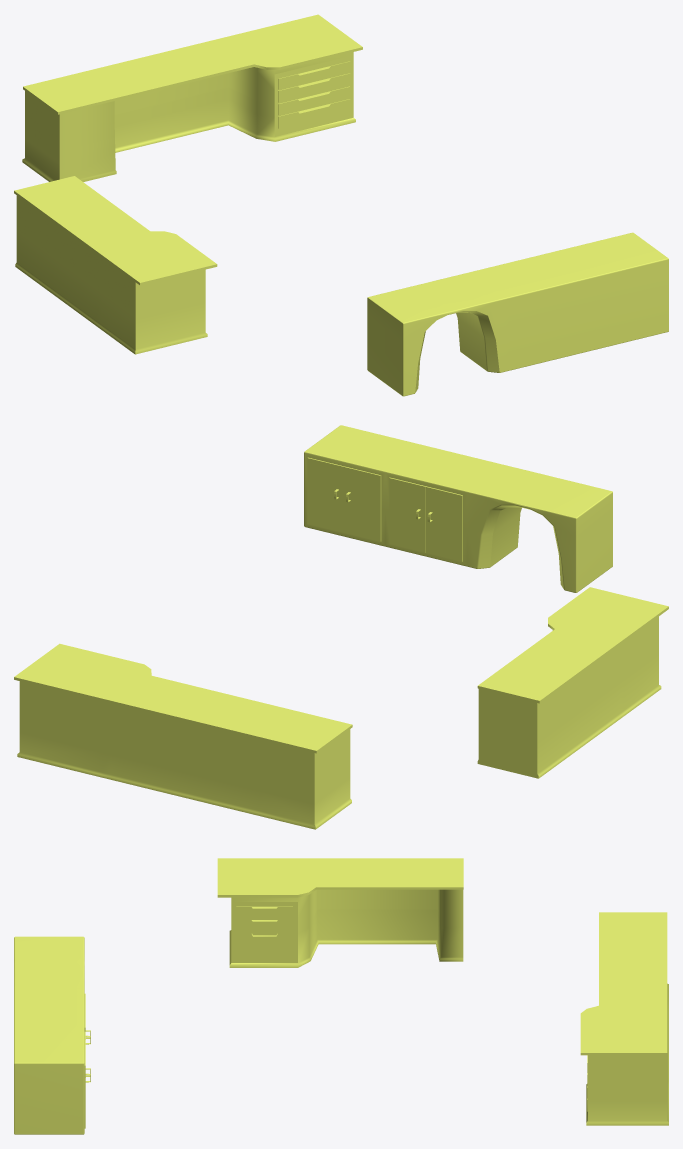
File: AllMesas.fbx
The picture shows the model from 3 angles, top to bottom: view 1: azimuth 30°, elevation 25°; view 2: azimuth 150°, elevation 25°; view 3: azimuth 270°, elevation 25°; orthographic projection. The views are drawn at different scales.
Parts seen in each view (by area): view 1: pCube42, polySurface11, pCube119, pCube125, pCube122, pCube121, pCube124, pCube118, pCube126; view 2: polySurface11, pCube42, pCube119, pCube125, pCube122, pCube80 (×2), pCube79 (×2); view 3: pCube42, pCube119, pCube125, pCube122, polySurface11, pCube117, pCube120, pCube123.
Boxes of the visible parts, box(x1,y1,x2,y2) form: pCube42: box(367, 232, 668, 396); polySurface11: box(22, 52, 355, 181); pCube119: box(15, 195, 207, 354); pCube125: box(23, 14, 362, 114); pCube122: box(14, 176, 217, 285); pCube121: box(278, 99, 350, 128); pCube124: box(278, 73, 350, 102); pCube118: box(278, 86, 350, 115); pCube126: box(278, 61, 350, 89); polySurface11: box(17, 681, 351, 829); pCube42: box(304, 425, 612, 592); pCube119: box(477, 616, 661, 778); pCube125: box(14, 643, 352, 753); pCube122: box(477, 587, 668, 703); pCube80 (×2): box(344, 466, 462, 561); pCube79 (×2): box(307, 457, 425, 552); pCube42: box(14, 936, 84, 1134); pCube119: box(229, 889, 463, 967); pCube125: box(580, 912, 667, 1055); pCube122: box(217, 858, 463, 897); polySurface11: box(586, 983, 668, 1125); pCube117: box(236, 933, 292, 958); pCube120: box(236, 906, 292, 918); pCube123: box(236, 920, 292, 931).
Bounding box in the file's own units: 17.24 × 2.96 × 23.59.
